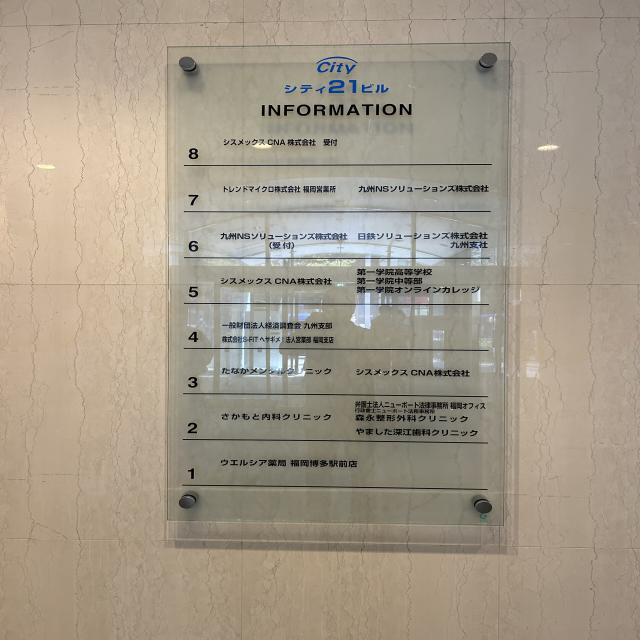building: (282, 78, 396, 98)
facility: (218, 228, 354, 253), (219, 132, 354, 156), (354, 179, 494, 202), (356, 230, 492, 252), (222, 179, 339, 203), (217, 456, 361, 472), (352, 399, 490, 415), (219, 274, 337, 290), (352, 364, 476, 379), (354, 424, 480, 438), (218, 410, 335, 423), (218, 365, 334, 378), (217, 320, 337, 332), (353, 413, 472, 424), (355, 286, 485, 296), (218, 334, 338, 344), (354, 265, 436, 277), (355, 276, 431, 286), (325, 107, 326, 108)
floor: (183, 280, 208, 301), (181, 237, 208, 256), (181, 144, 207, 163), (181, 190, 205, 208), (185, 325, 205, 346), (184, 463, 204, 483), (182, 419, 204, 437), (182, 374, 204, 391)
